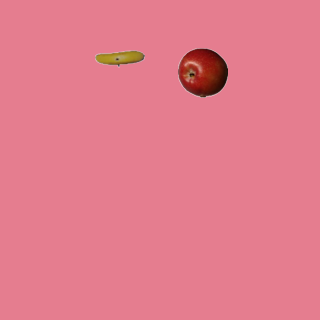Apple Braeburn: (177, 47, 227, 97)
Banana: (94, 33, 144, 83)
